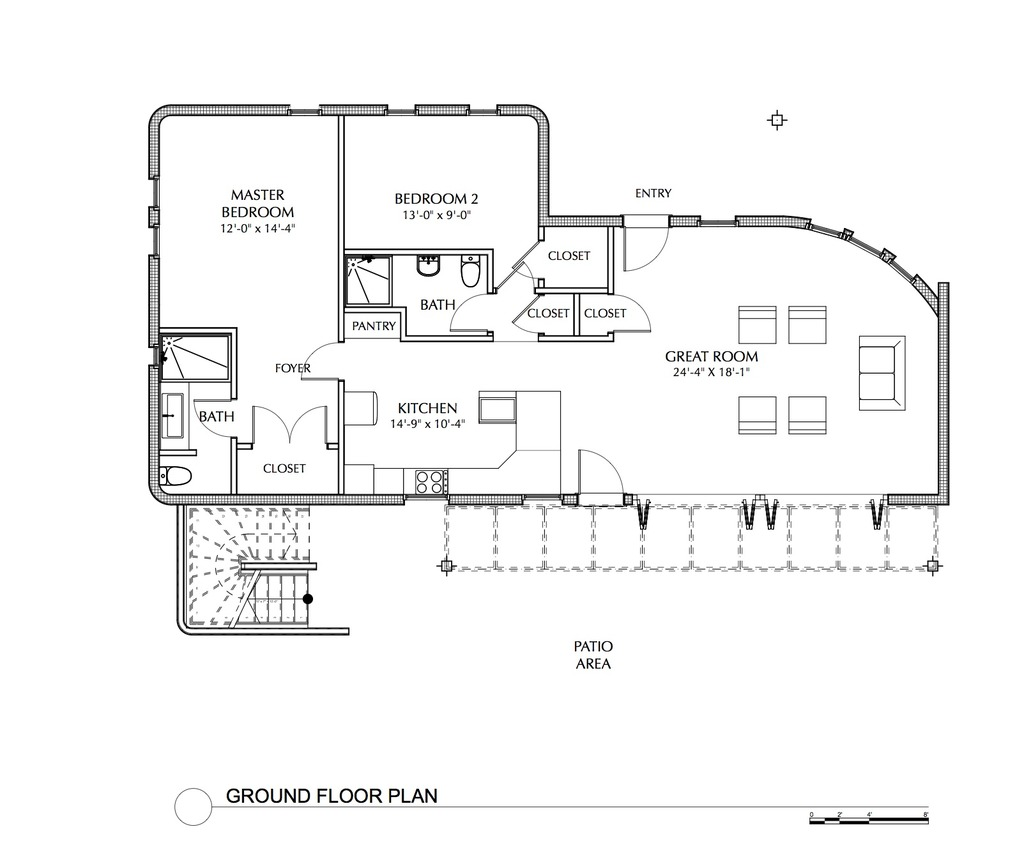door: (247, 404, 331, 448), (569, 448, 626, 499), (445, 292, 504, 335), (623, 226, 671, 269), (296, 340, 341, 383), (608, 295, 651, 340)
large_sink: (159, 460, 200, 492), (457, 251, 488, 291)
large_sofa: (856, 330, 908, 417)
small_sink: (410, 252, 443, 280)
small_sofa: (733, 303, 779, 348), (735, 393, 781, 438), (786, 392, 831, 437), (786, 303, 830, 348)
stairs: (180, 503, 319, 630)
